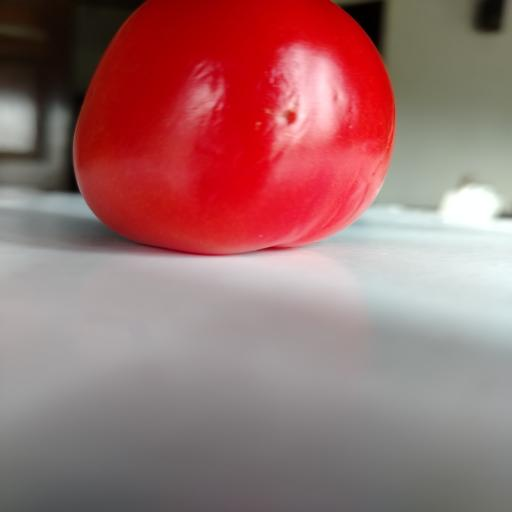ripe: (74, 0, 395, 254)
